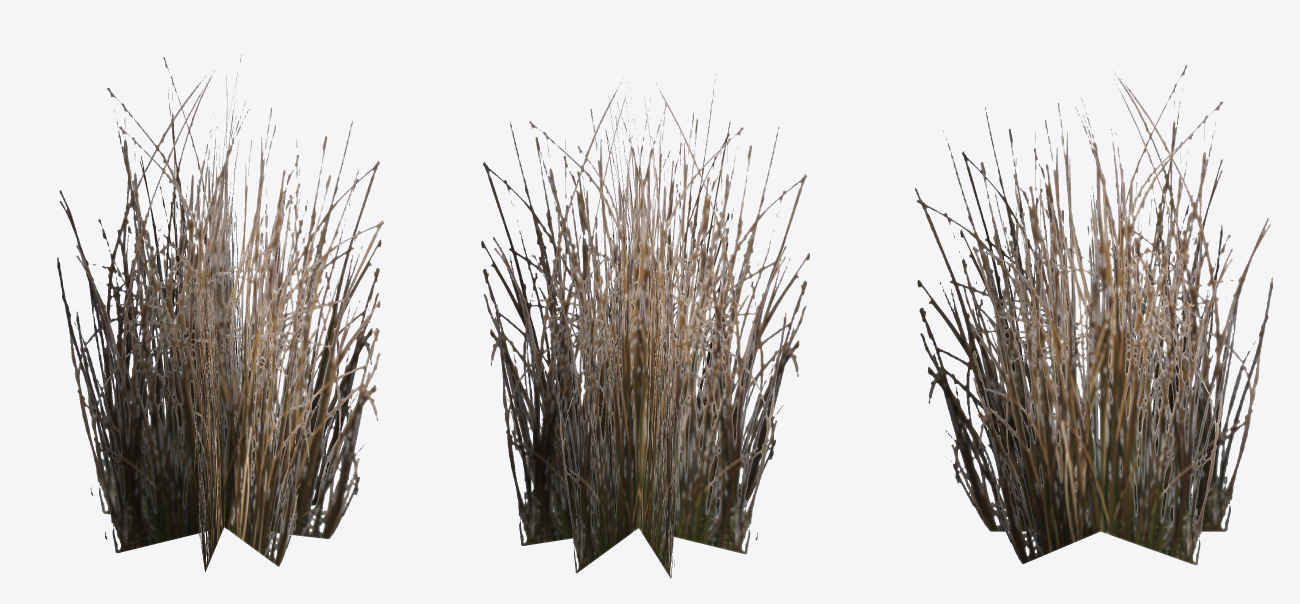
File: SM_Generic_Plant_08.fbx
3 views of the same model, side by side, from view 1: azimuth 30°, elevation 25°; view 2: azimuth 150°, elevation 25°; view 3: azimuth 270°, elevation 25° (orthographic).
Parts seen in each view (by area): view 1: SM_Generic_Plant_08_LOD0; view 2: SM_Generic_Plant_08_LOD0; view 3: SM_Generic_Plant_08_LOD0.
Boxes of the visible parts, <box> form: SM_Generic_Plant_08_LOD0: <box>57,54,383,571</box>; SM_Generic_Plant_08_LOD0: <box>481,74,809,578</box>; SM_Generic_Plant_08_LOD0: <box>915,65,1272,565</box>.
Size of what is drawn, in the model's own units: 0.5511 by 0.6592 by 0.5149.
